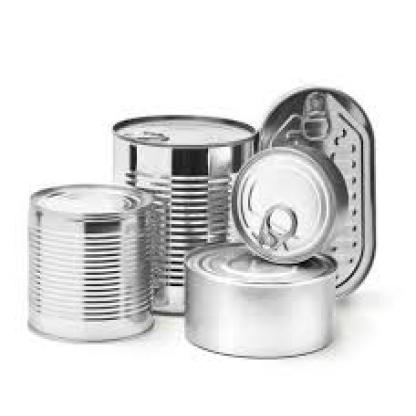METAL: (110, 113, 256, 314), (255, 85, 376, 299), (28, 183, 154, 340), (182, 241, 336, 354), (230, 143, 347, 260)
